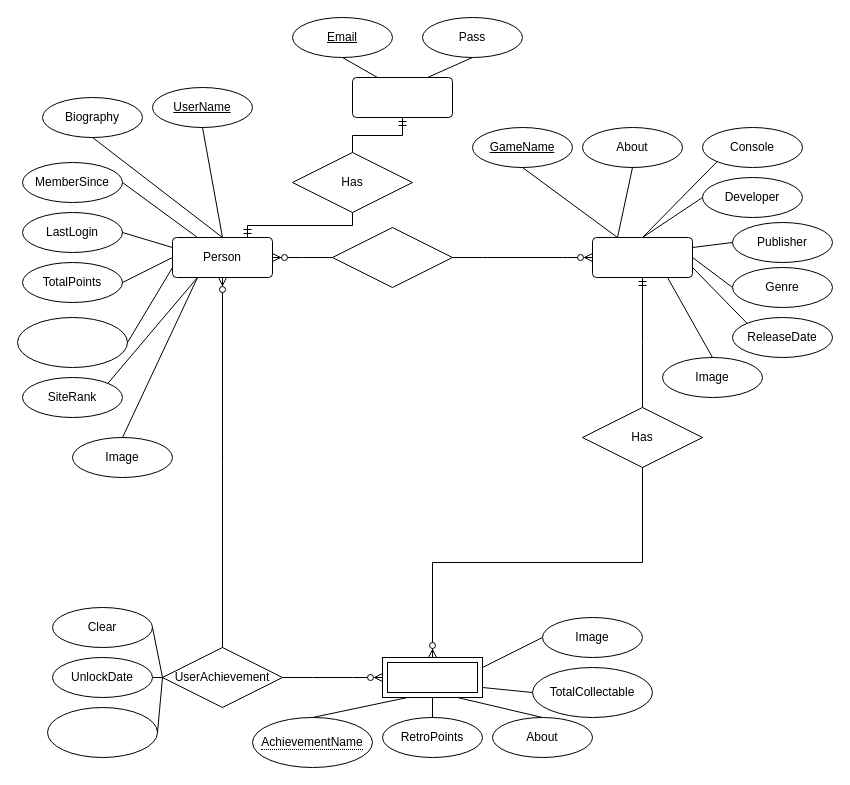
Some shapes in this 850 by 785 pixel diagram are drawn without their labels. Each missing label, with the centre of its shape:
"Achievement" goes at point (432, 677).
"AverageCompletion" goes at point (72, 342).
"Game" goes at point (642, 257).
"PersonAccount" goes at point (402, 97).
"TotalCollected" goes at point (102, 732).
"UserGame" goes at point (392, 257).
